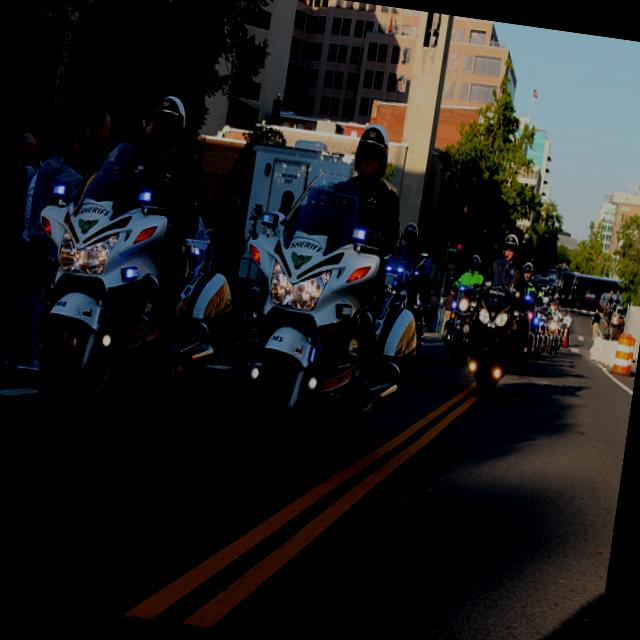Vehicle: (13, 134, 255, 448), (227, 165, 425, 480), (369, 237, 432, 376), (459, 282, 526, 404), (437, 280, 483, 366), (556, 270, 625, 315), (500, 298, 538, 374), (520, 304, 542, 352), (543, 311, 565, 354), (532, 316, 549, 360)
